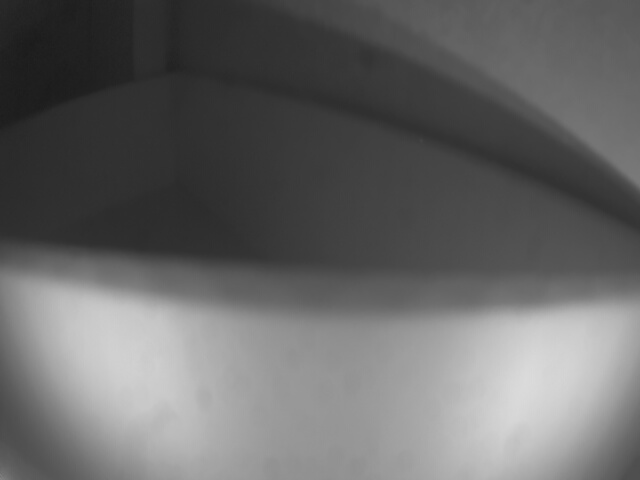Point: (2, 263, 638, 479)
